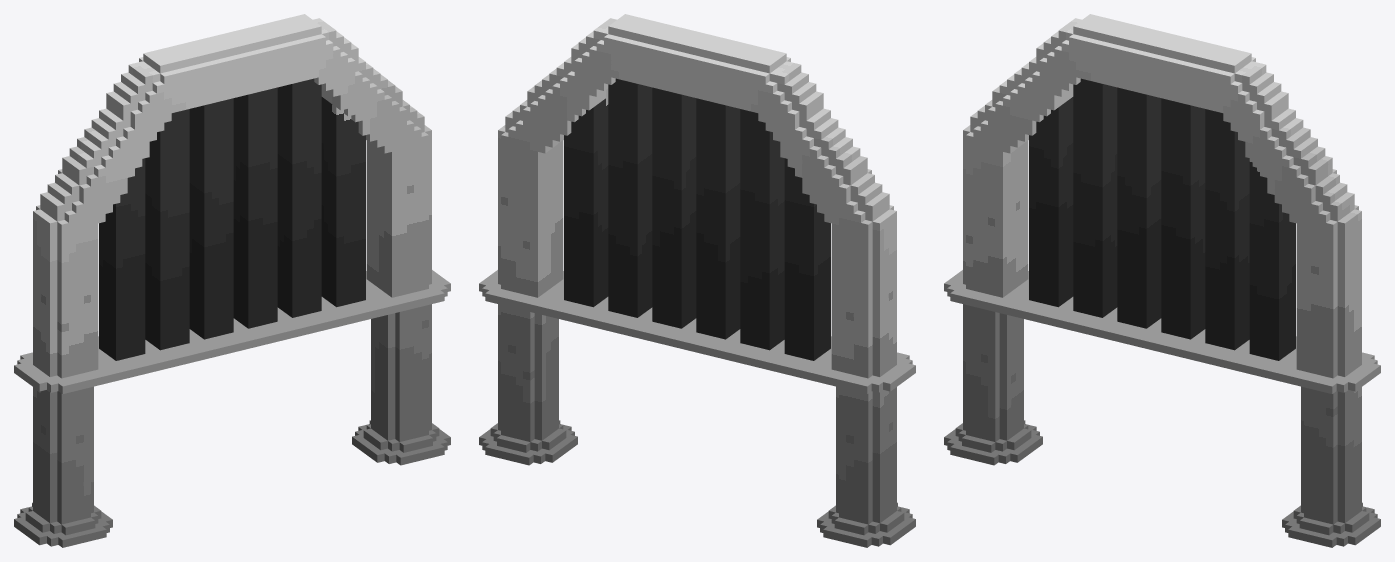
File: door_2.glb
3 renders of one model, left to right at view 1: azimuth 30°, elevation 25°; view 2: azimuth 150°, elevation 25°; view 3: azimuth 330°, elevation 25°, orthographic.
Parts seen in each view (by area): view 1: door2; view 2: door2; view 3: door2.
Boxes of the visible parts, x1,y1,x2,y2 form: door2: [14, 14, 450, 547]; door2: [479, 14, 915, 547]; door2: [944, 14, 1380, 547].
Bounding box in the file's own units: 5.6 × 5.8 × 1.
1 material, 1 textured.
